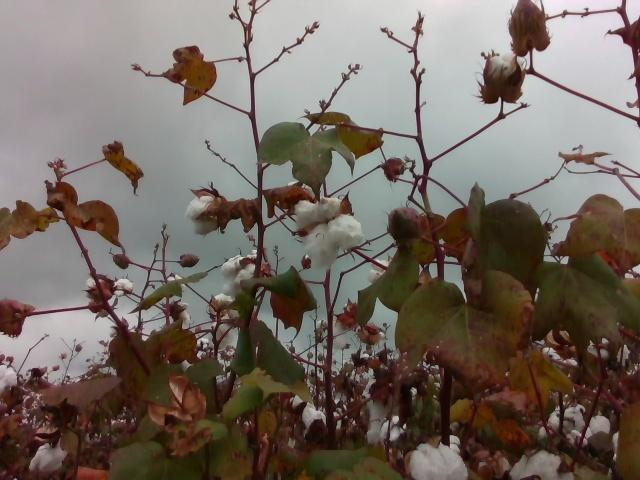cotton_ready: (294, 195, 365, 268), (567, 416, 626, 466), (409, 441, 468, 480), (507, 450, 576, 480), (222, 249, 266, 296), (364, 383, 395, 443), (185, 192, 223, 240), (210, 296, 239, 350), (28, 439, 69, 473), (485, 51, 526, 83), (292, 396, 327, 431), (325, 312, 351, 350), (368, 257, 393, 283), (84, 276, 109, 301), (0, 363, 18, 391)
